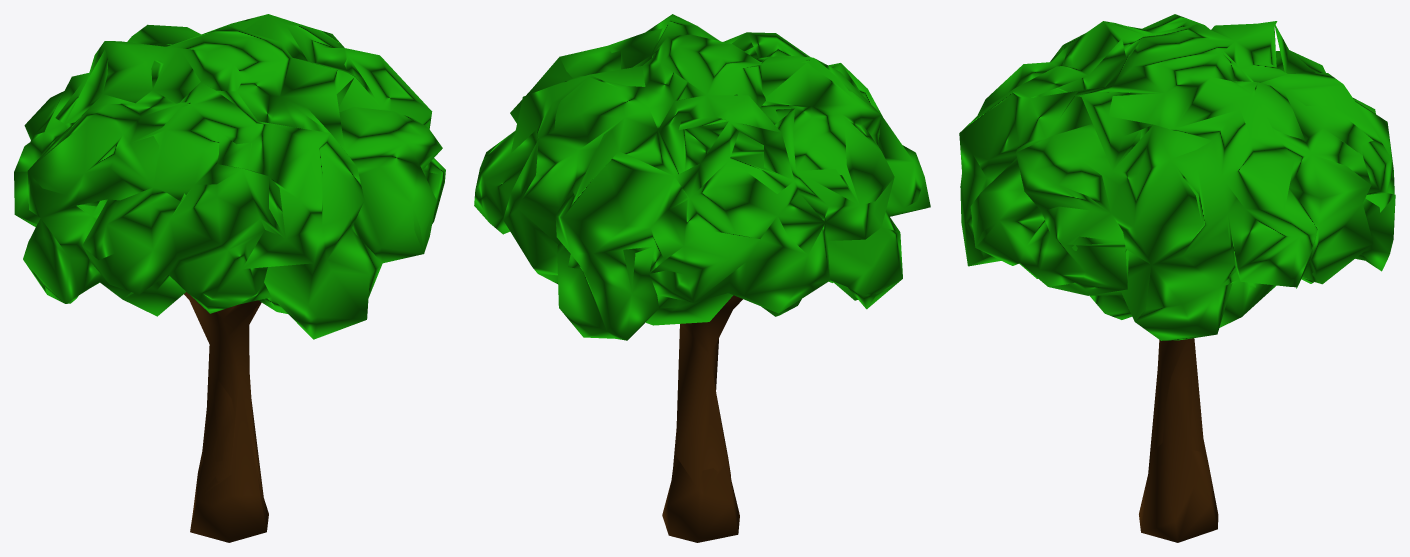
File: gen3d-kapok-tree-lod0.glb
3 renders of one model, left to right at view 1: azimuth 30°, elevation 25°; view 2: azimuth 150°, elevation 25°; view 3: azimuth 270°, elevation 25°, orthographic.
Parts seen in each view (by area): view 1: part_0; view 2: part_0; view 3: part_0.
Part boxes in pixels (<box>): part_0: <box>14,14,445,542</box>; part_0: <box>474,14,930,542</box>; part_0: <box>959,14,1395,542</box>.
Size of the model in its own units: 0.8205 by 1 by 0.8212.
